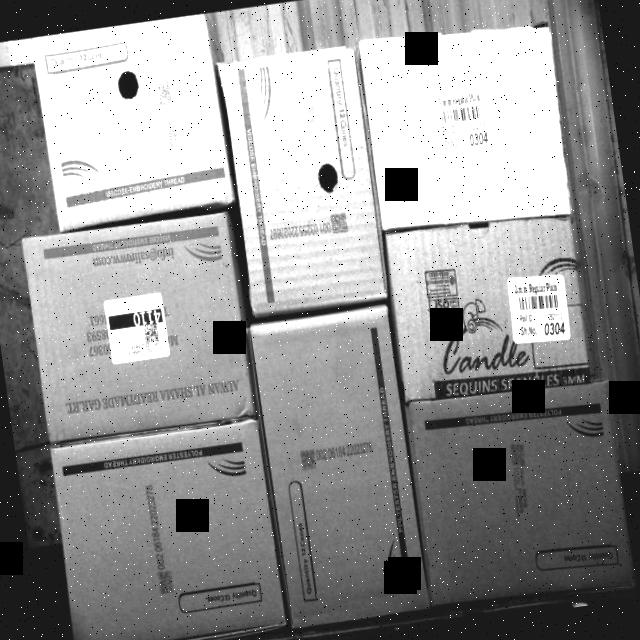box: (245, 306, 432, 631), (19, 205, 261, 440), (403, 375, 640, 612), (51, 414, 288, 640), (353, 13, 576, 231), (216, 46, 392, 321), (31, 12, 238, 232), (378, 208, 602, 400)
